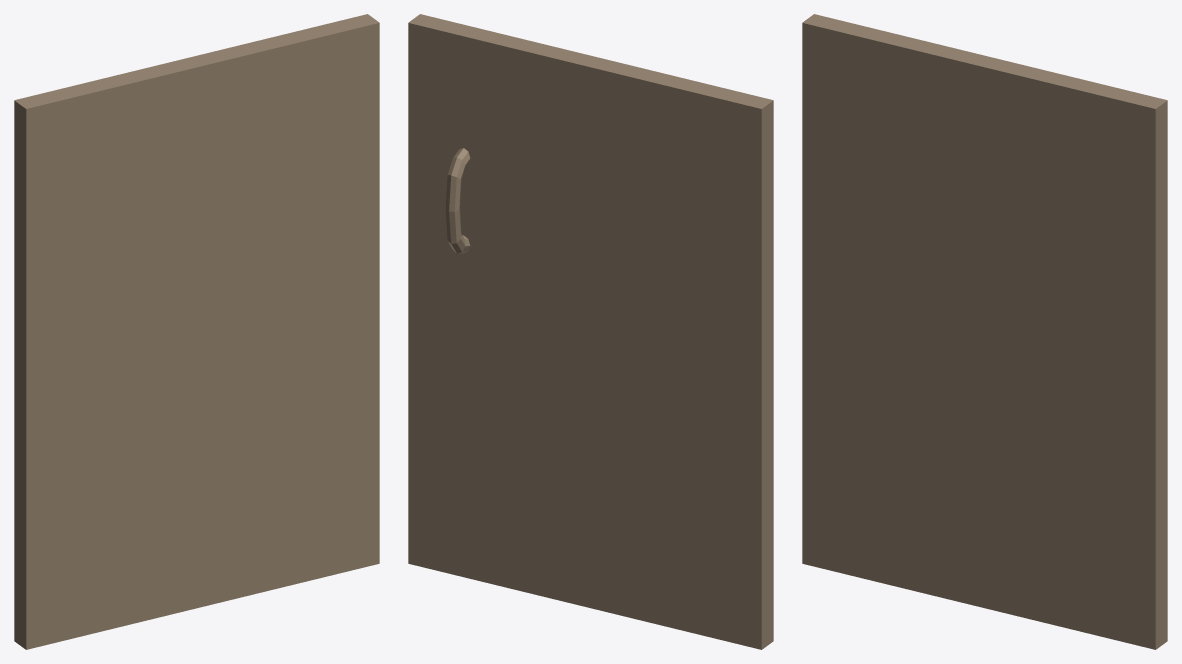
The model's file is cabinet_Door.fbx.
3 renders of one model, left to right at view 1: azimuth 30°, elevation 25°; view 2: azimuth 150°, elevation 25°; view 3: azimuth 330°, elevation 25°, orthographic.
Parts seen in each view (by area): view 1: cabinet_Door; view 2: cabinet_Door, polySurface727; view 3: cabinet_Door.
Boxes of the visible parts, <box> form: cabinet_Door: <box>14,14,379,649</box>; cabinet_Door: <box>408,14,773,649</box>; polySurface727: <box>445,148,470,253</box>; cabinet_Door: <box>802,14,1167,649</box>.
Size of the model in its own units: 0.8377 by 1.22 by 0.1102.
